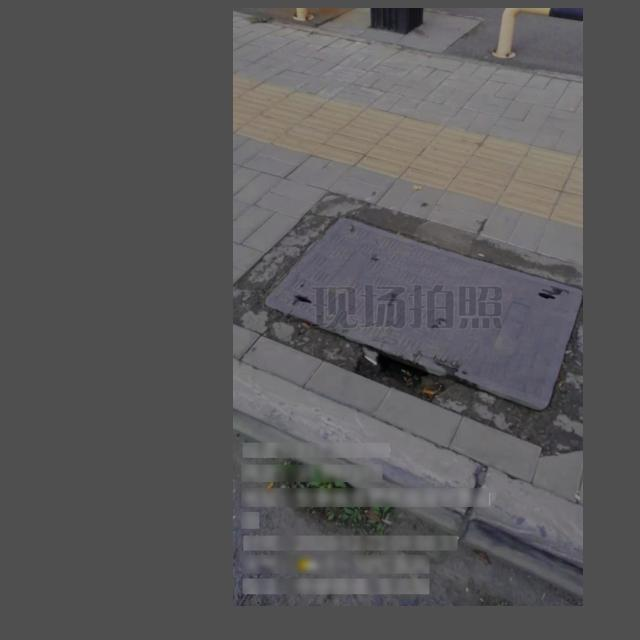circle: (237, 192, 583, 431)
